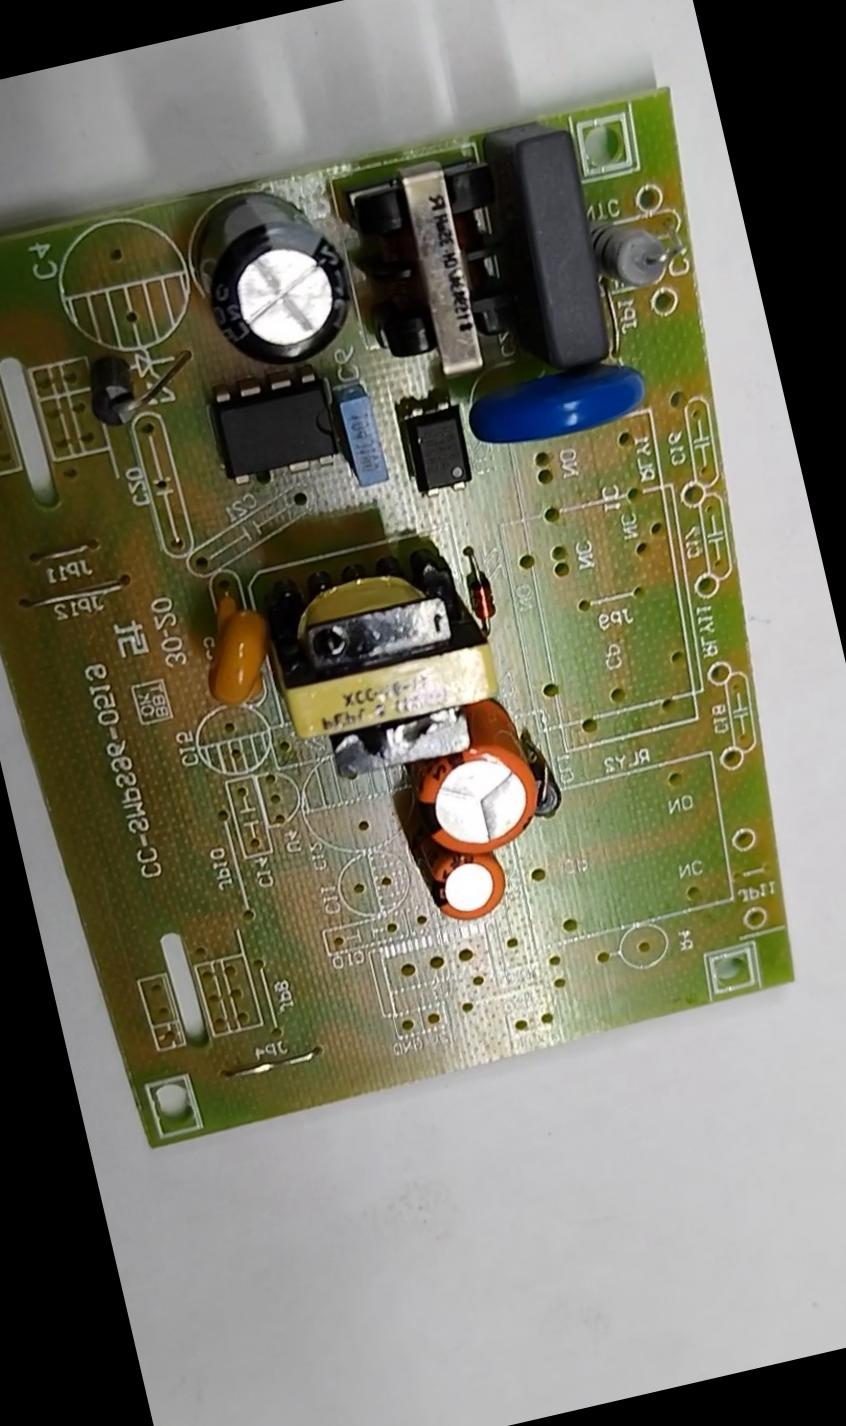Cap1: (413, 732, 546, 862)
Cap2: (414, 832, 515, 932)
Cap3: (194, 170, 362, 373)
MOSFET: (210, 373, 342, 488)
Mov: (468, 368, 657, 457)
Resistor: (595, 217, 675, 288)
Transformer: (260, 531, 510, 785), (346, 153, 526, 386)
